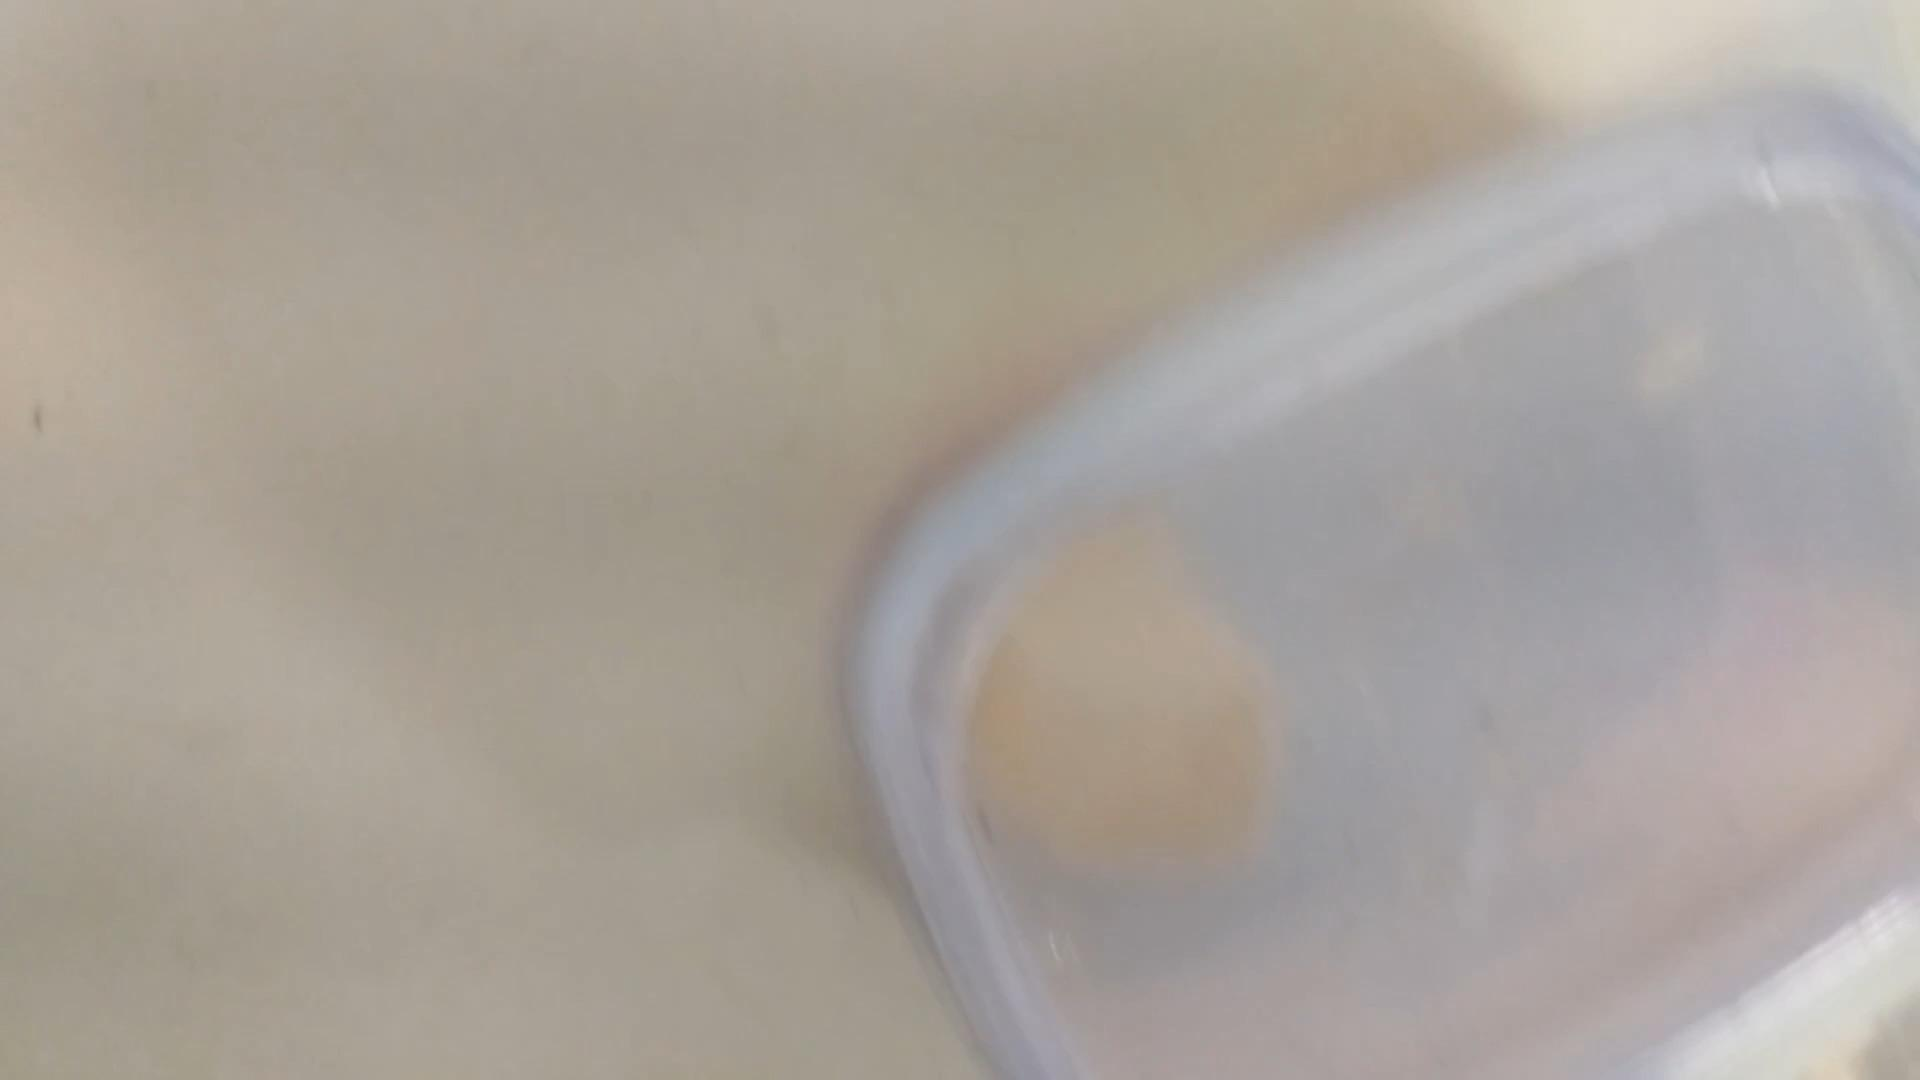butter: (860, 111, 1917, 1079)
